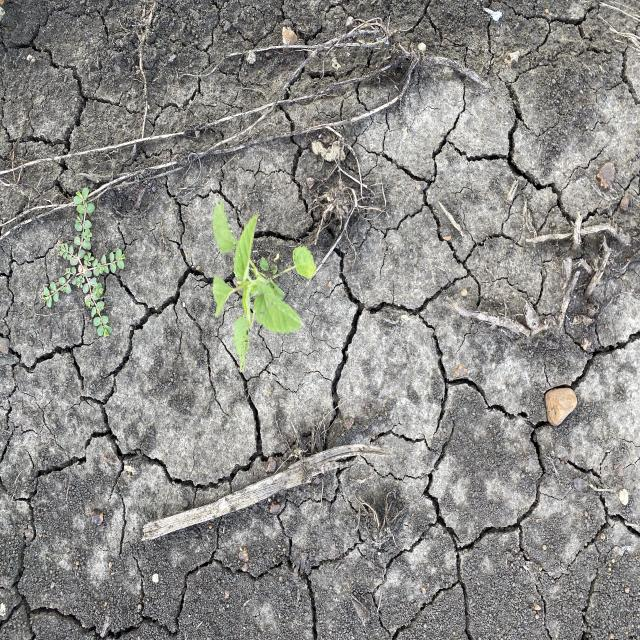PricklySida: (210, 199, 318, 372)
SpottedSpurge: (40, 185, 126, 343)
